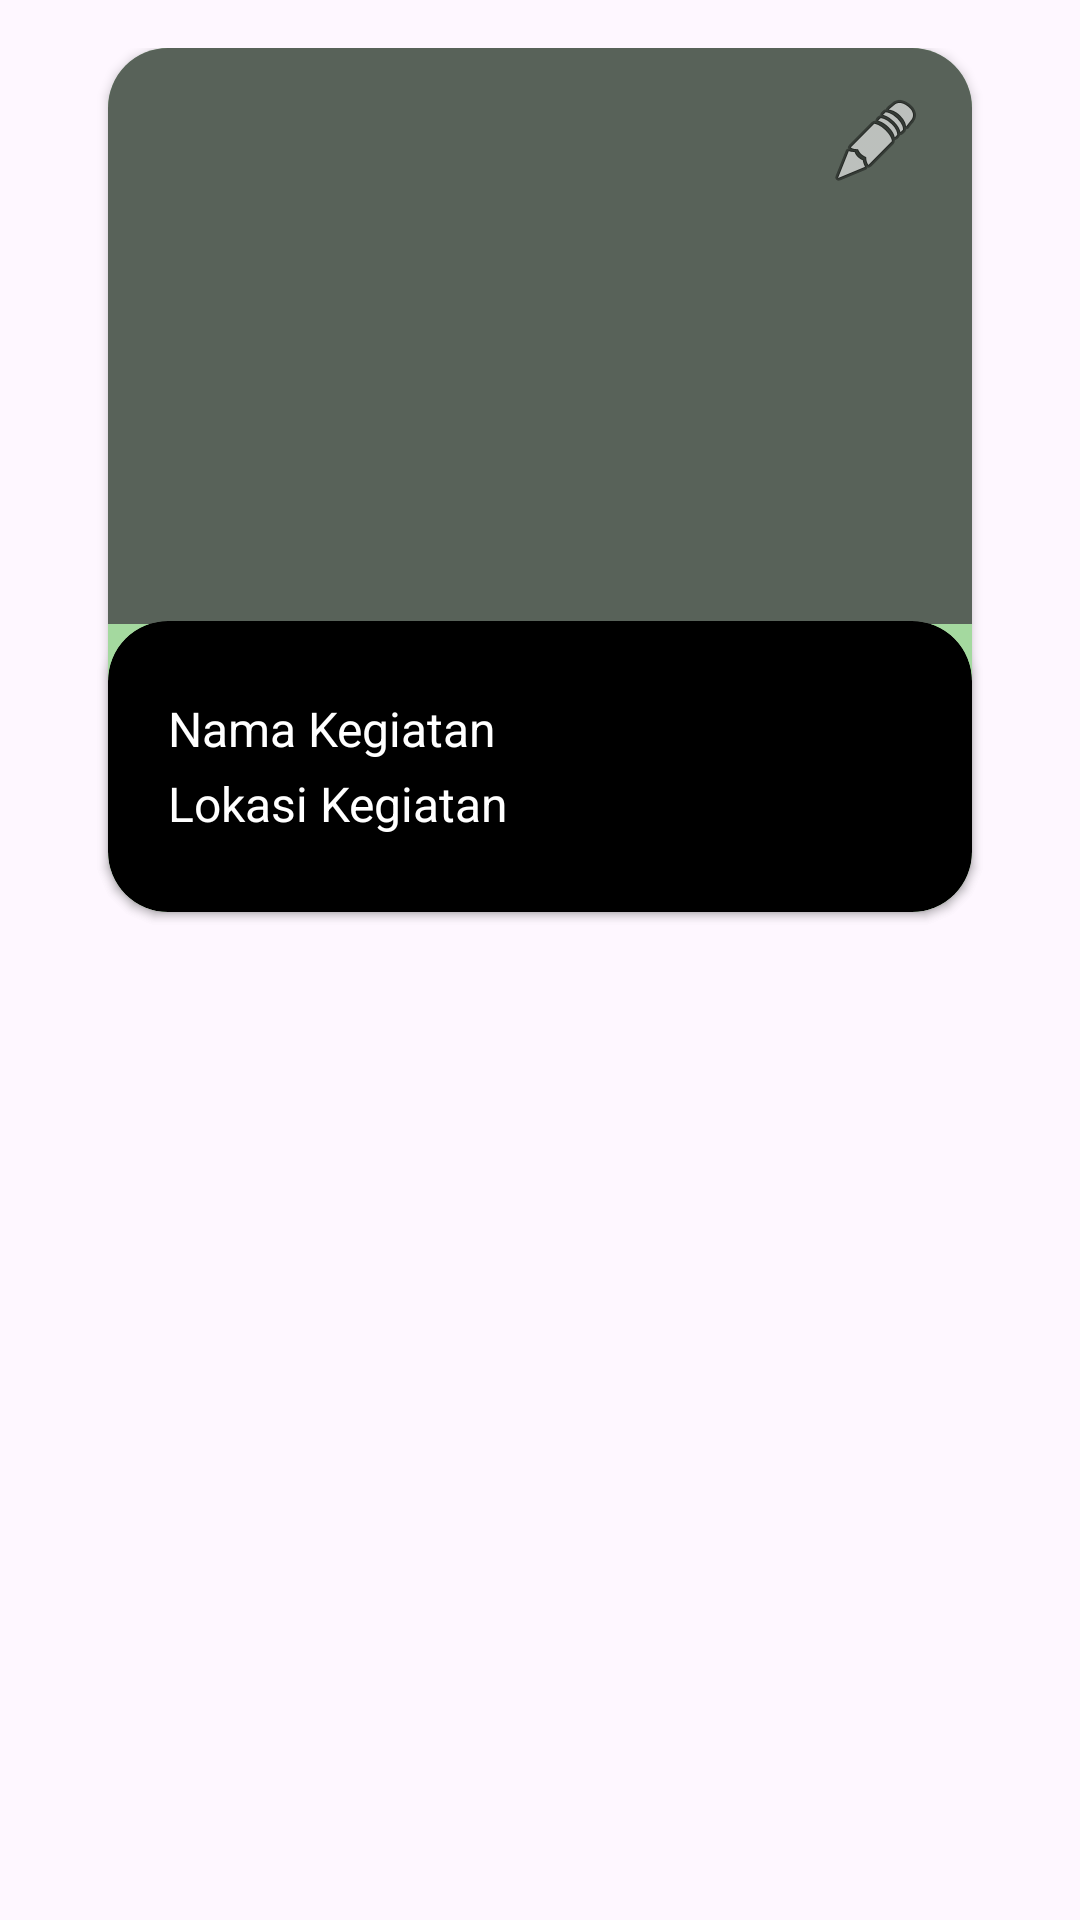

Icon bounding boxes for this 1080px x 1920px phone screenshot, format (x1, y1, x2, y2):
Edit: (835, 100, 916, 181)
